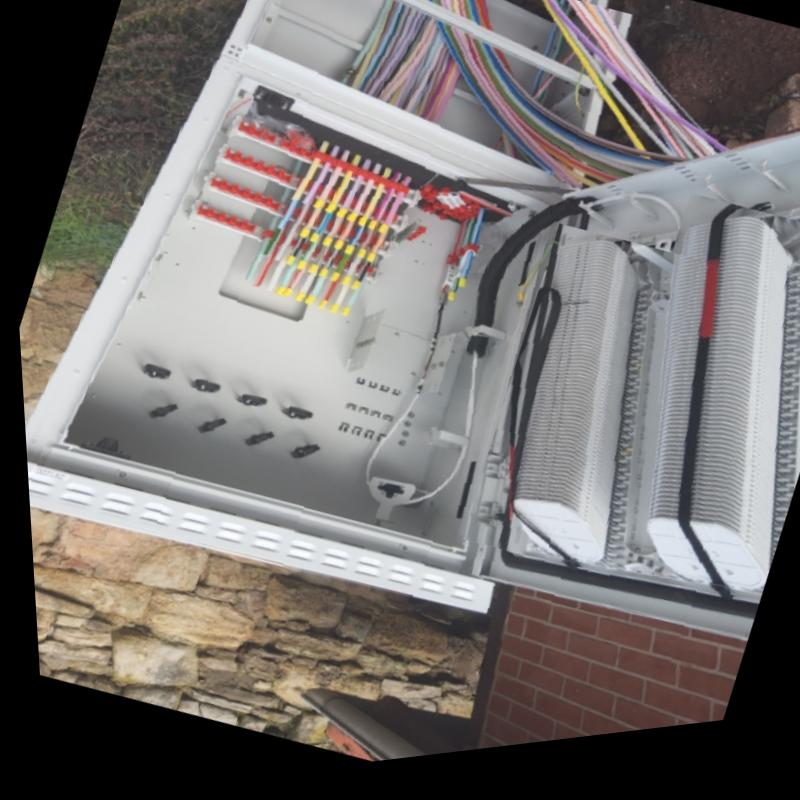NT-Gehause: (20, 0, 800, 656)
Spleiskassetten: (632, 227, 795, 617), (494, 249, 640, 584)
